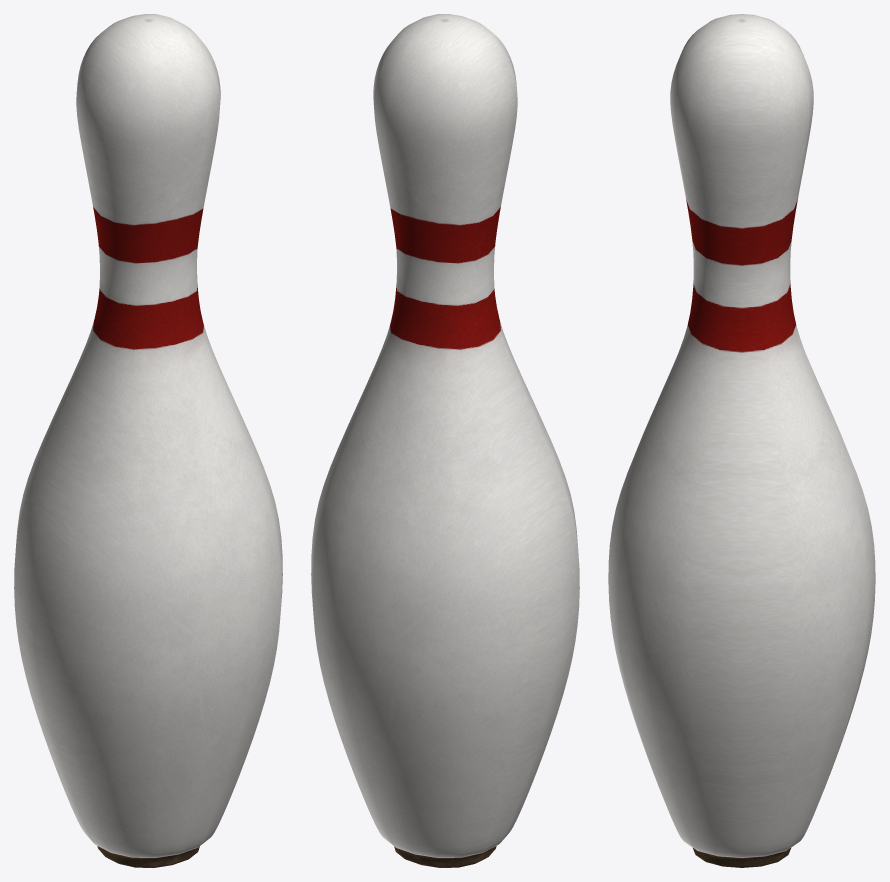
File: bolo.obj
The picture shows the model from 3 angles, left to right: view 1: azimuth 30°, elevation 25°; view 2: azimuth 150°, elevation 25°; view 3: azimuth 270°, elevation 25°; orthographic projection.
Visible parts, largest first — view 1: Cube.002_Cube.004; view 2: Cube.002_Cube.004; view 3: Cube.002_Cube.004.
Part boxes in pixels (box(x1,y1,x2,y2)): Cube.002_Cube.004: box(14, 14, 282, 867); Cube.002_Cube.004: box(311, 14, 579, 867); Cube.002_Cube.004: box(608, 14, 875, 867).
Size of the model in its own units: 0.5725 by 1.96 by 0.5725.
